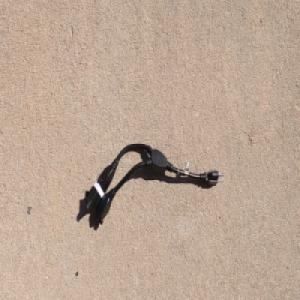Wire: (82, 141, 225, 227)
